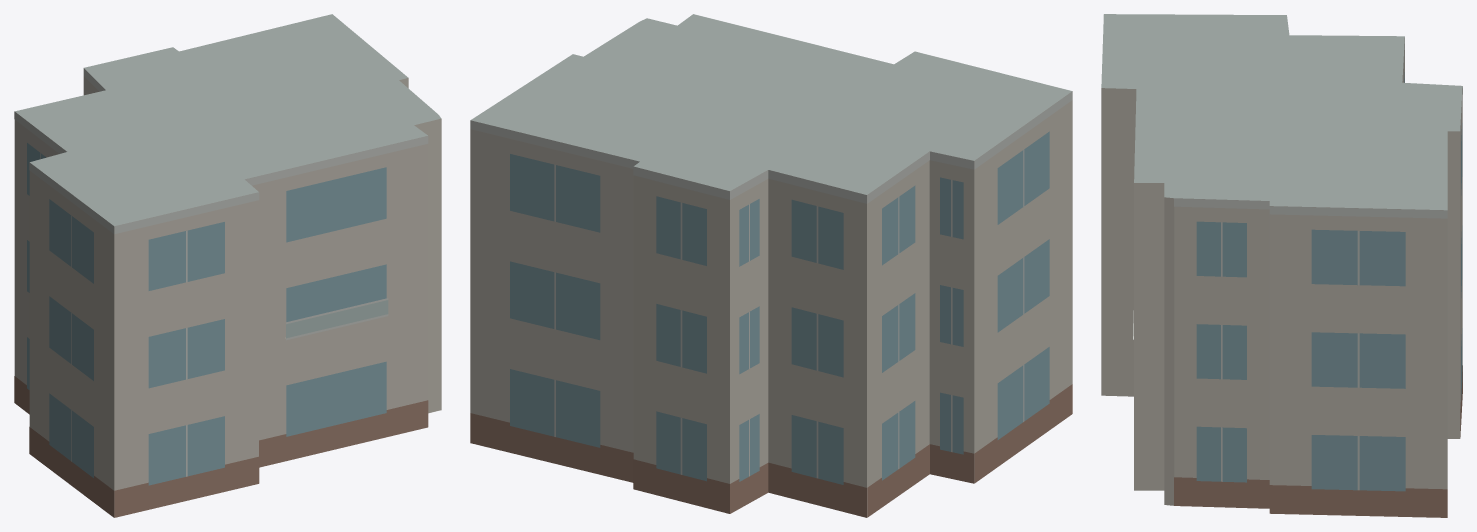
The model's file is survey-upis-32466686.glb.
3 views of the same model, side by side, from view 1: azimuth 30°, elevation 25°; view 2: azimuth 150°, elevation 25°; view 3: azimuth 270°, elevation 25° (orthographic). The views are drawn at different scales.
Parts seen in each view (by area): view 1: survey-upis-32466686.tmp; view 2: survey-upis-32466686.tmp; view 3: survey-upis-32466686.tmp.
Boxes of the visible parts, x1,y1,x2,y2 form: survey-upis-32466686.tmp: (14,14,441,517); survey-upis-32466686.tmp: (470,14,1072,517); survey-upis-32466686.tmp: (1101,14,1462,517).
Size of the model in its own units: 12.18 by 8.9 by 9.48.
